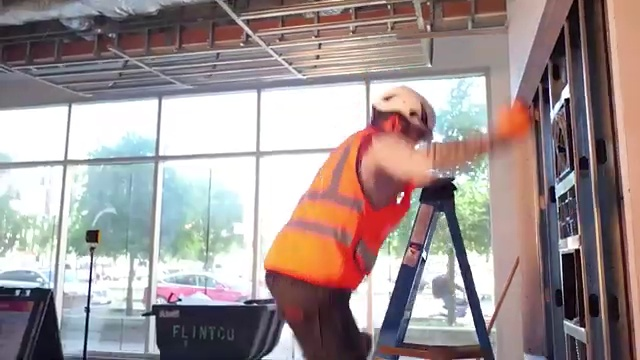helmet: (370, 79, 448, 143)
jacket: (278, 126, 377, 297)
